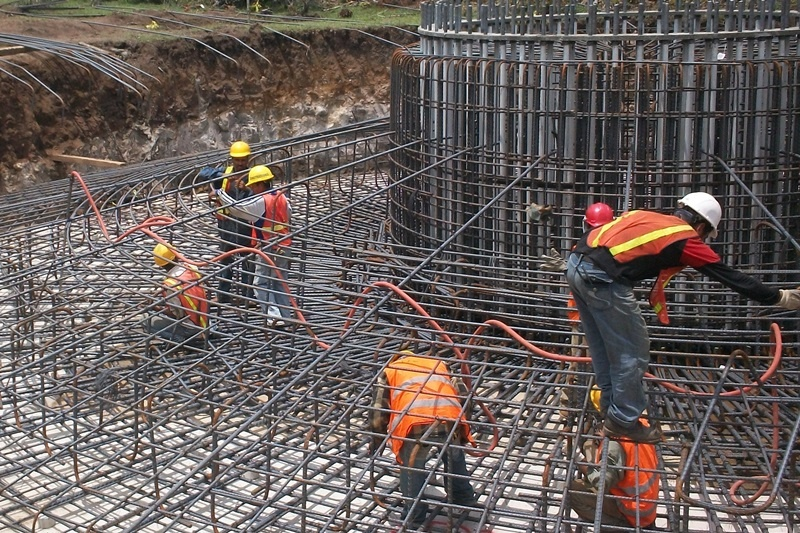red: (585, 202, 613, 233)
white: (675, 190, 722, 241)
yellow: (152, 238, 180, 271), (247, 164, 273, 192), (227, 141, 252, 167)
